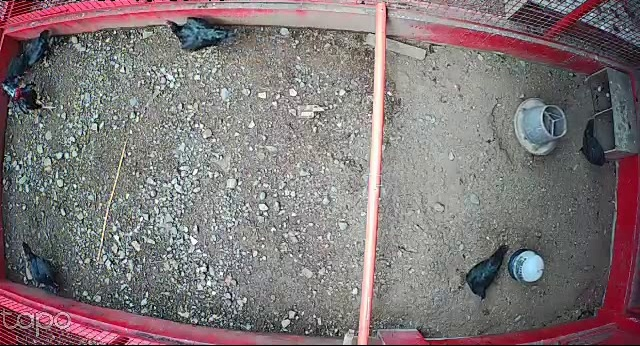Chicken: (159, 15, 239, 53), (465, 245, 510, 301), (15, 242, 65, 291), (573, 117, 612, 171), (24, 23, 52, 70)
Drinker: (505, 246, 548, 286)
Feeder: (512, 95, 567, 156)
Rooster: (1, 81, 61, 116)
